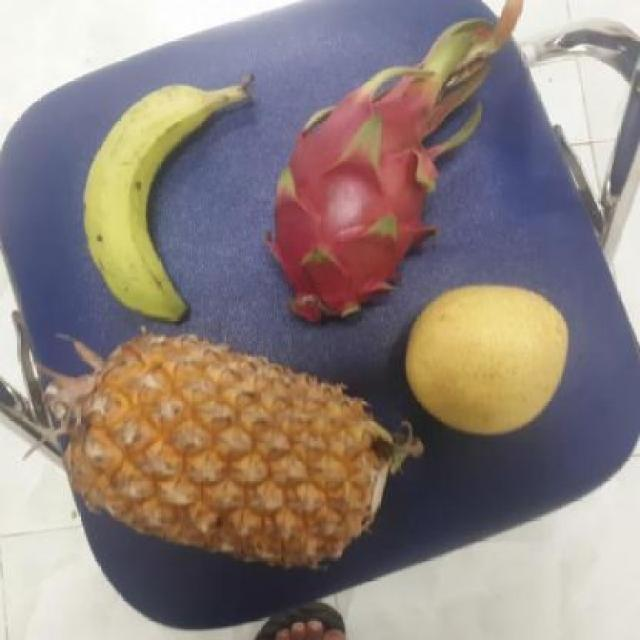banana: (78, 84, 234, 318)
dragon fruit: (254, 90, 466, 322)
pear: (398, 287, 568, 435)
pineapple: (58, 333, 384, 570)
